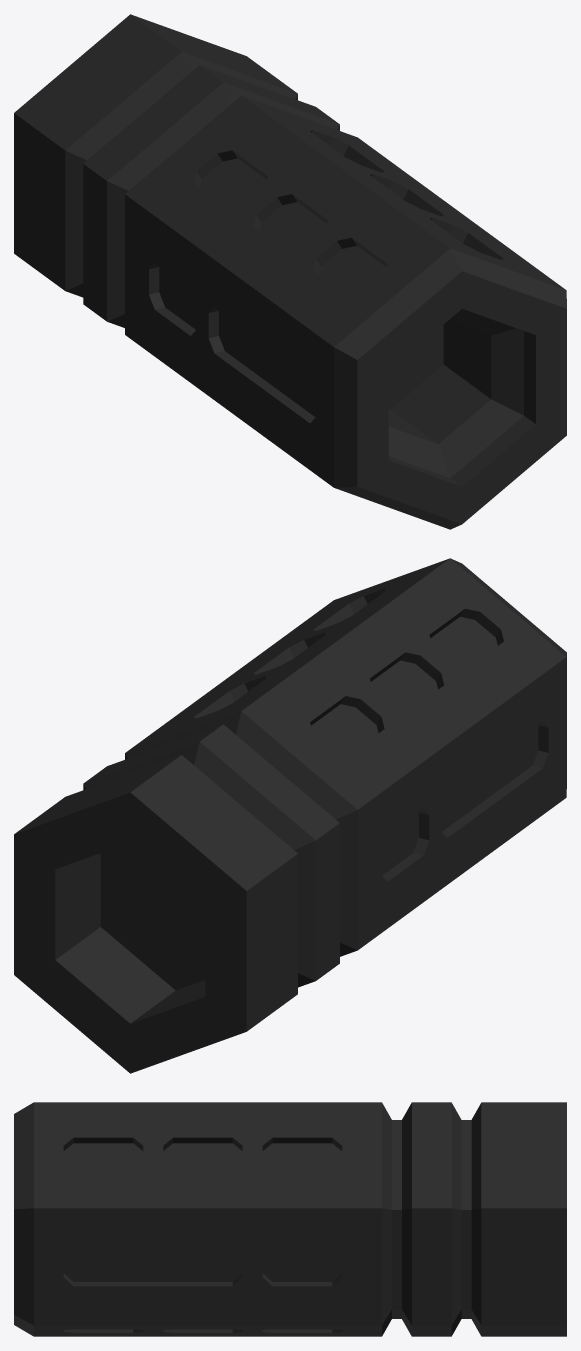
Rendered from Muzzle_Pistol_Brake_A.fbx.
3 views of the same model, one above another, from view 1: azimuth 30°, elevation 25°; view 2: azimuth 150°, elevation 25°; view 3: azimuth 270°, elevation 25° (orthographic). The views are drawn at different scales.
Visible parts, largest first — view 1: Muzzle_Pistol_Brake_A; view 2: Muzzle_Pistol_Brake_A; view 3: Muzzle_Pistol_Brake_A.
Part boxes in pixels (bbox=[...]): Muzzle_Pistol_Brake_A: bbox=[14, 14, 566, 529]; Muzzle_Pistol_Brake_A: bbox=[14, 558, 566, 1073]; Muzzle_Pistol_Brake_A: bbox=[14, 1102, 566, 1336].
Size of the model in its own units: 0.0281 by 0.0325 by 0.0695.
